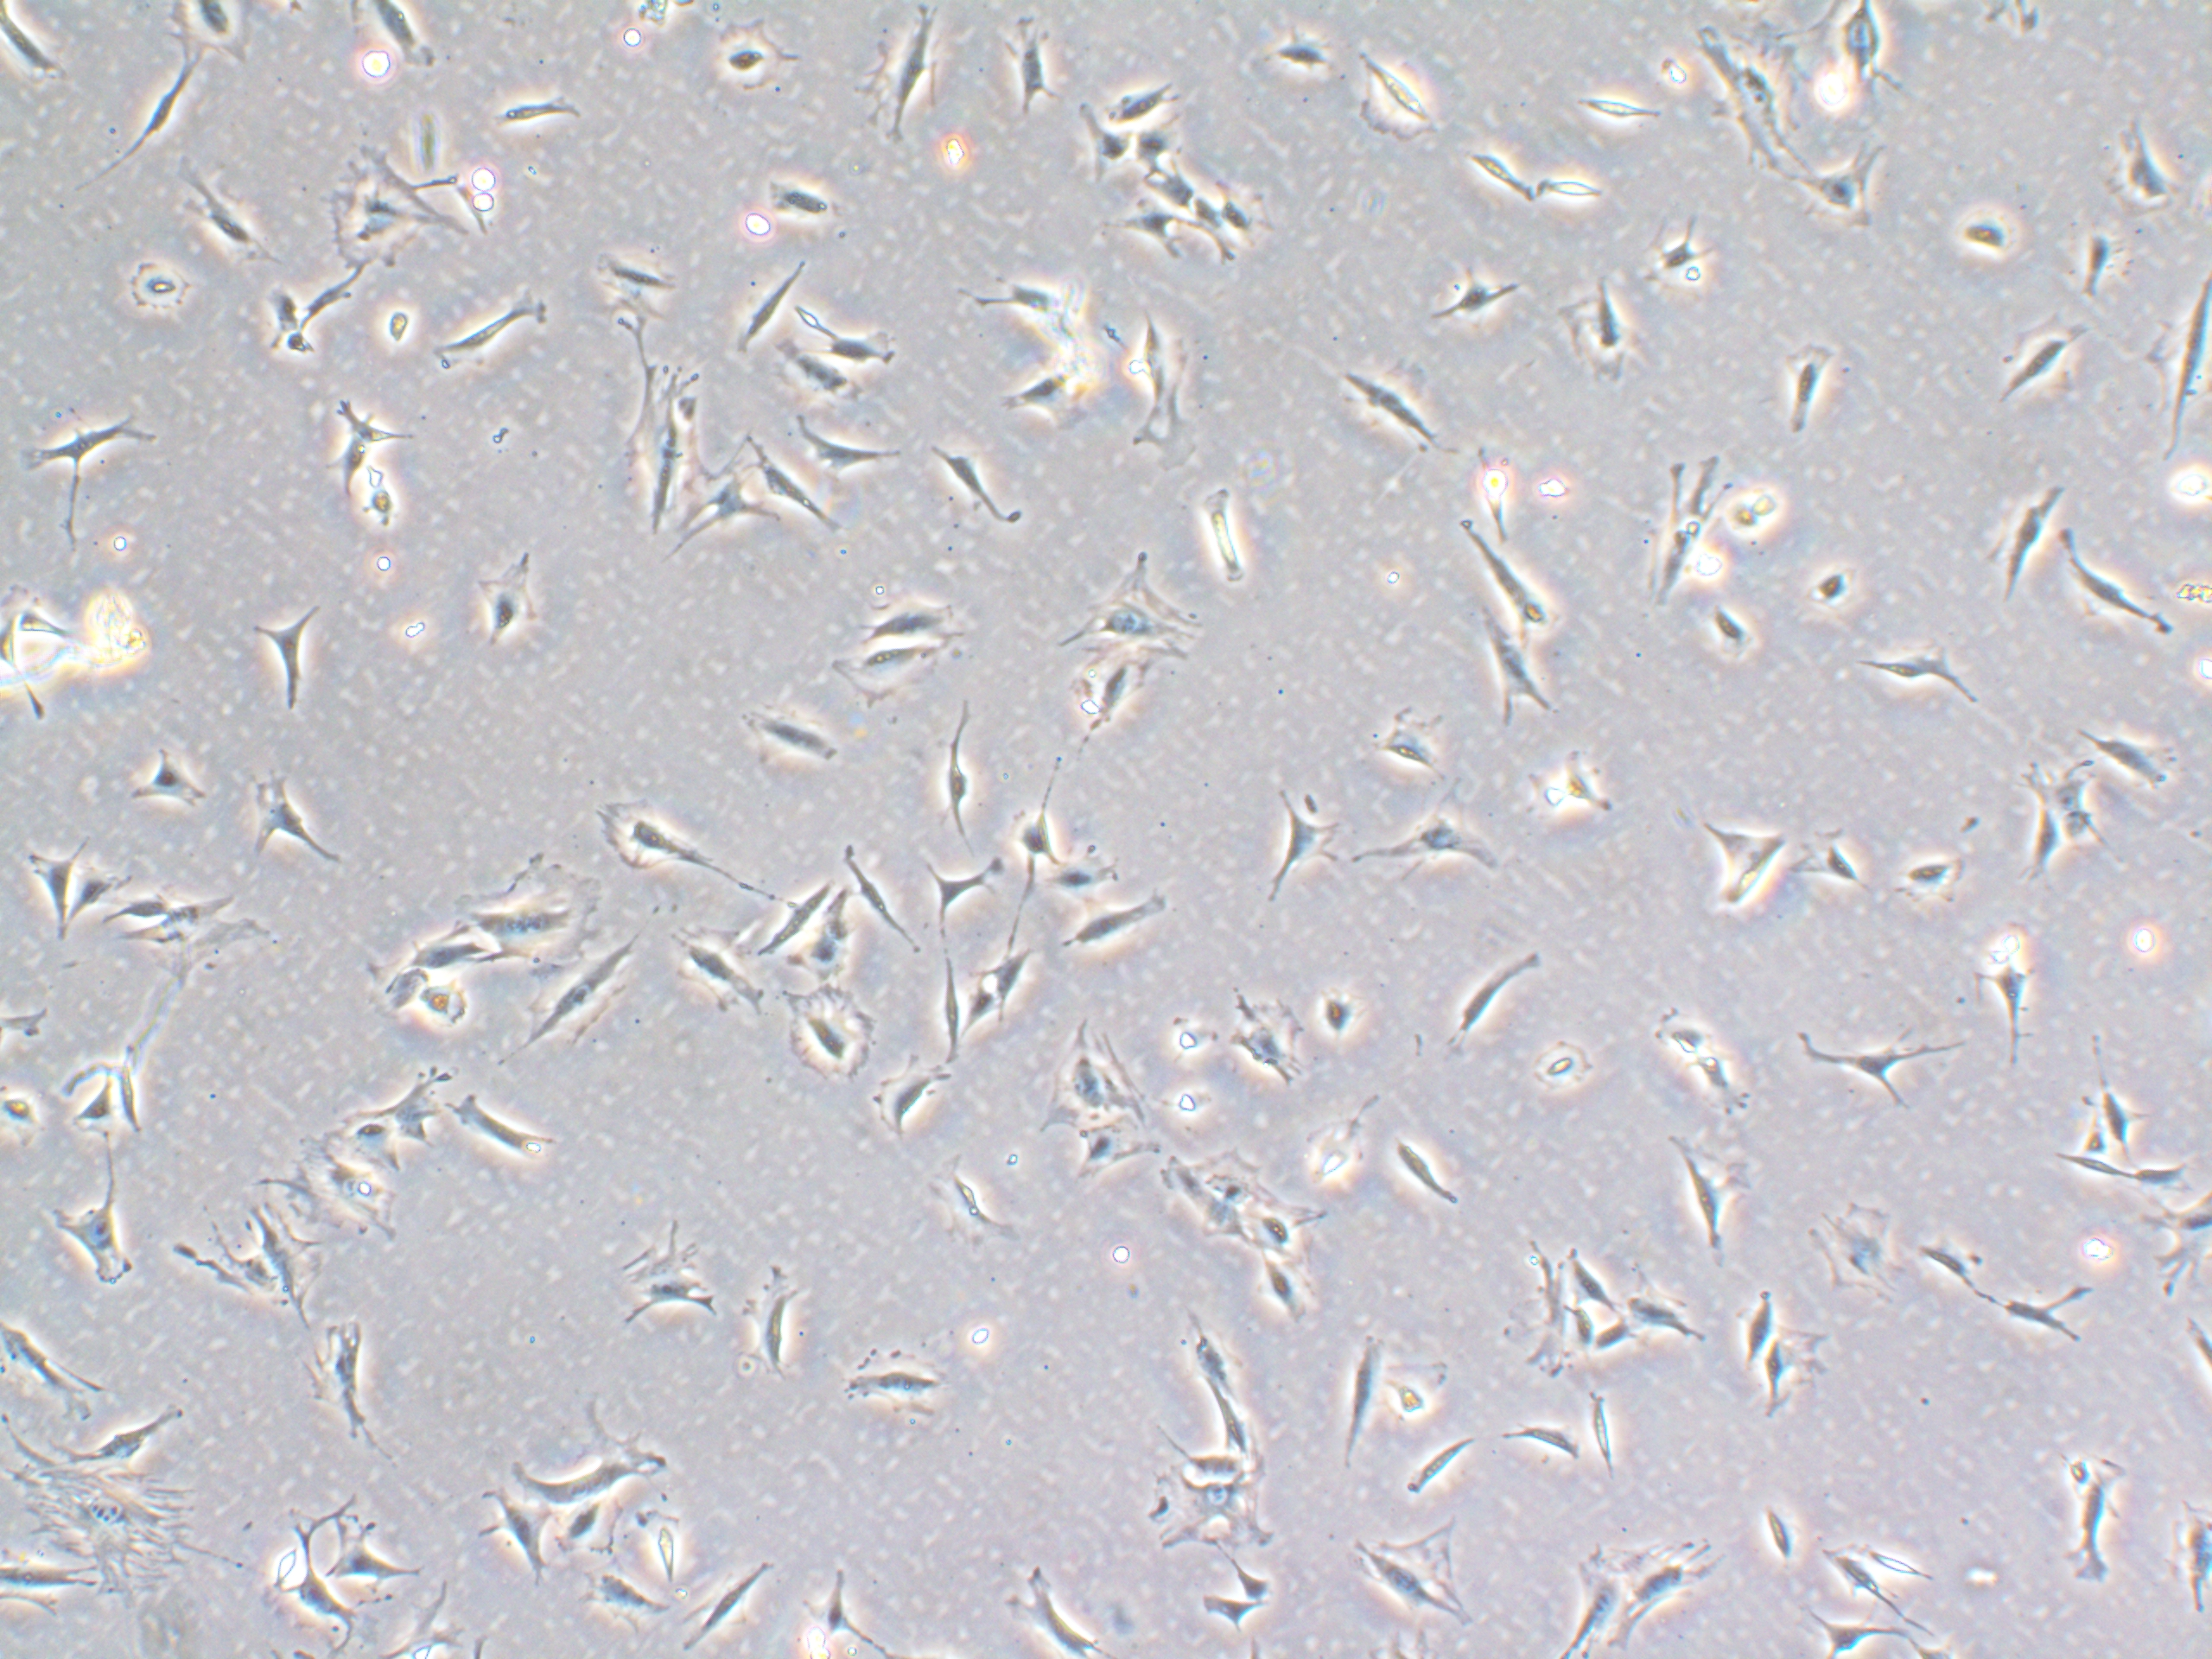small: (1944, 181, 2034, 270), (98, 247, 192, 324), (636, 1495, 702, 1603), (1526, 1040, 1611, 1098), (416, 971, 475, 1051), (362, 479, 418, 533)
spread: (0, 1452, 221, 1596), (1660, 17, 1815, 188), (251, 1121, 423, 1272), (446, 838, 617, 988), (1052, 542, 1211, 702), (1106, 1432, 1275, 1563), (322, 134, 455, 291), (1550, 1534, 1730, 1645), (1778, 1190, 1933, 1316), (613, 355, 705, 535), (1033, 1012, 1157, 1145), (1139, 1133, 1278, 1248), (773, 983, 885, 1100)
